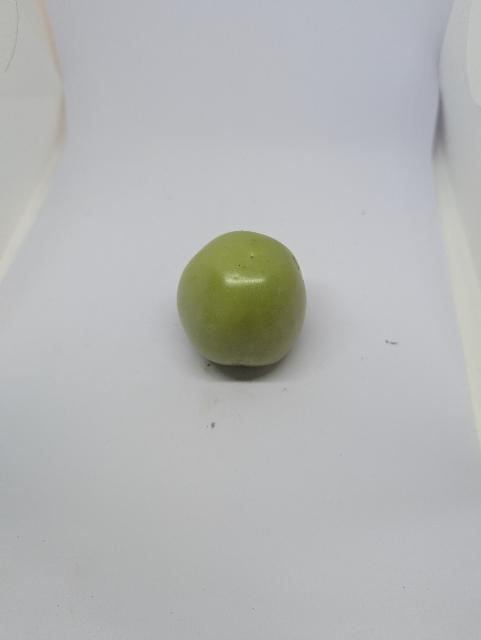green: (164, 216, 318, 381)
